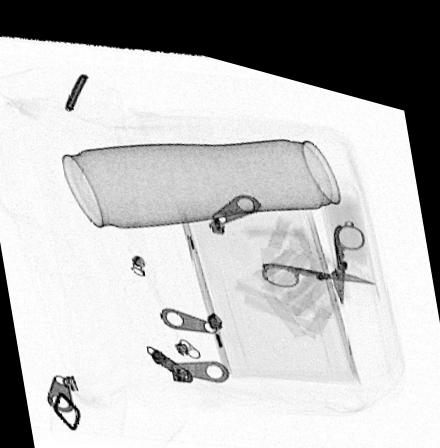Scissors: (260, 200, 376, 287)
